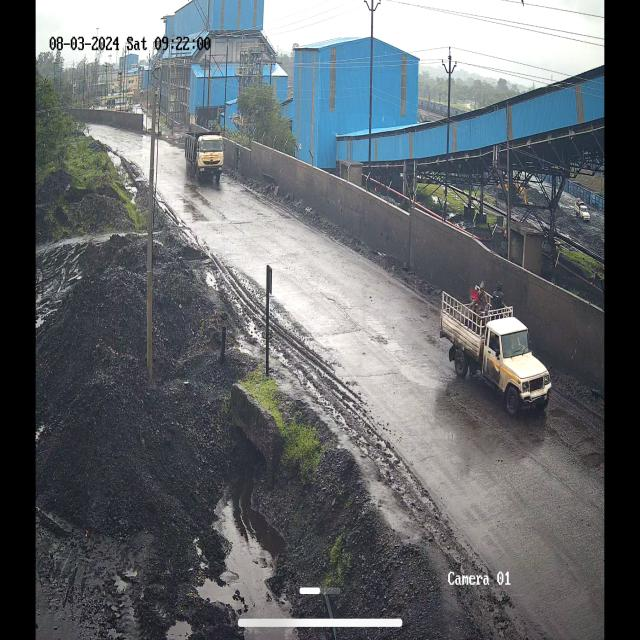dump_truck: (184, 124, 226, 186)
light_vehicle: (436, 277, 552, 423)
